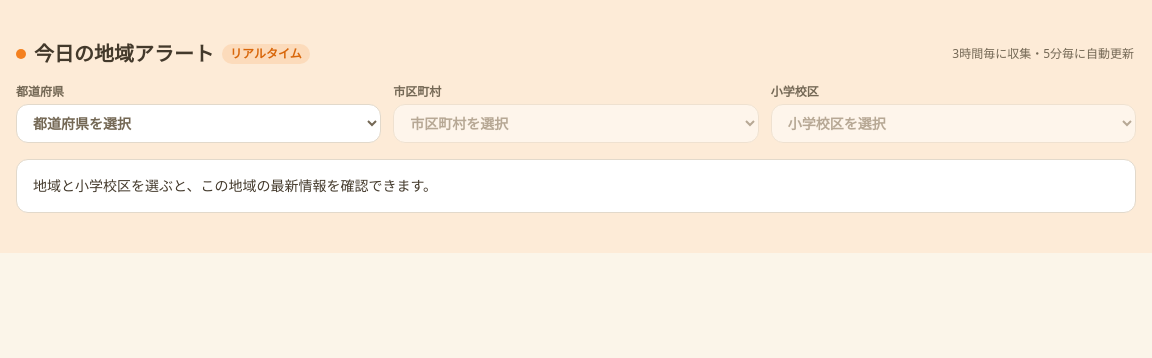
Test case: loading states of the region selects › reports a failed district request without locking the city select, and retries it
Select "東京都" in the dropdown labelled "都道府県" at (199, 124), box x1=16 y1=104 x2=381 y2=143
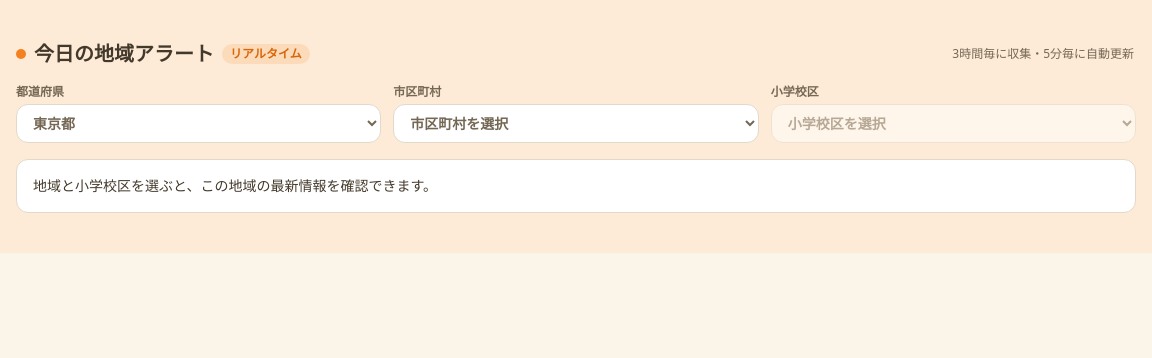
Select "新宿区" in the dropdown labelled "市区町村" at (576, 124), box x1=393 y1=104 x2=759 y2=143
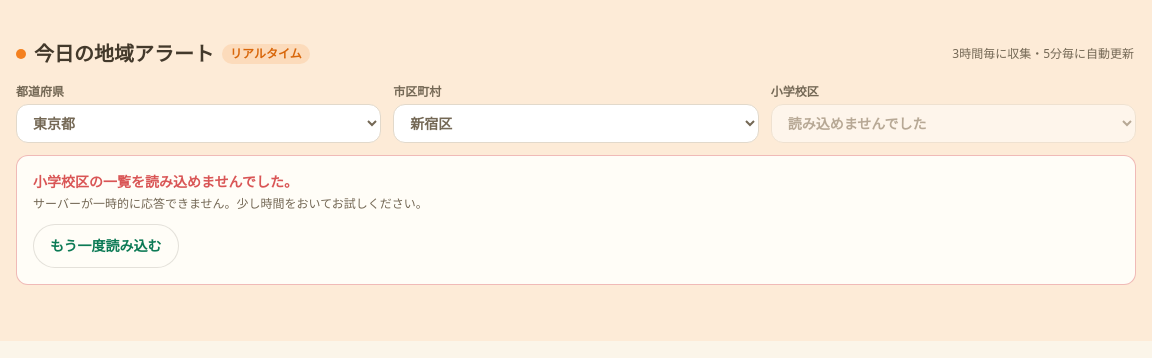
Check: the dropdown labelled "小学校区" is disabled, box x1=771 y1=104 x2=1136 y2=143
Check: the dropdown labelled "市区町村" is enabled, box x1=393 y1=104 x2=759 y2=143
Check: the message shows "小学校区の一覧を読み込めませんでした。", box x1=16 y1=155 x2=1136 y2=285
Click the button "もう一度読み込む" at (106, 246), box x1=33 y1=224 x2=179 y2=268
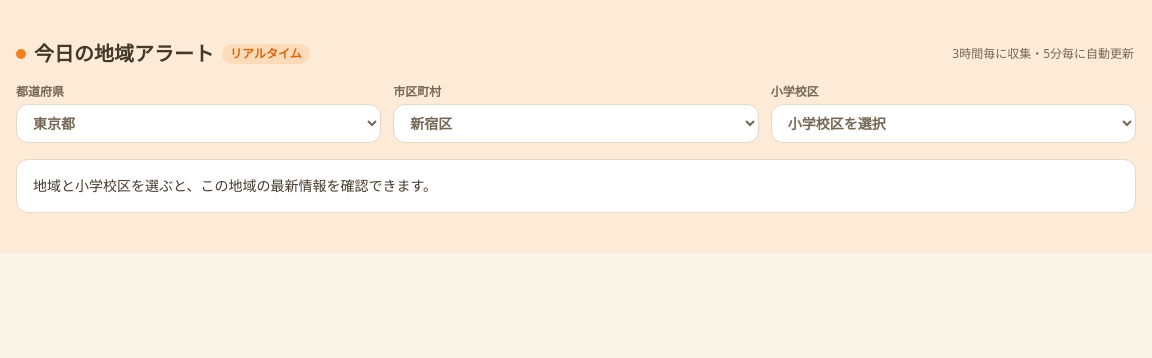
Check: the message "小学校区の一覧を読み込めませんでした。 サーバーが一時的に応答できません。少し時間をおいてお試しください。 もう一度読み込む" is gone
Check: the dropdown labelled "小学校区" is enabled, box x1=771 y1=104 x2=1136 y2=143
